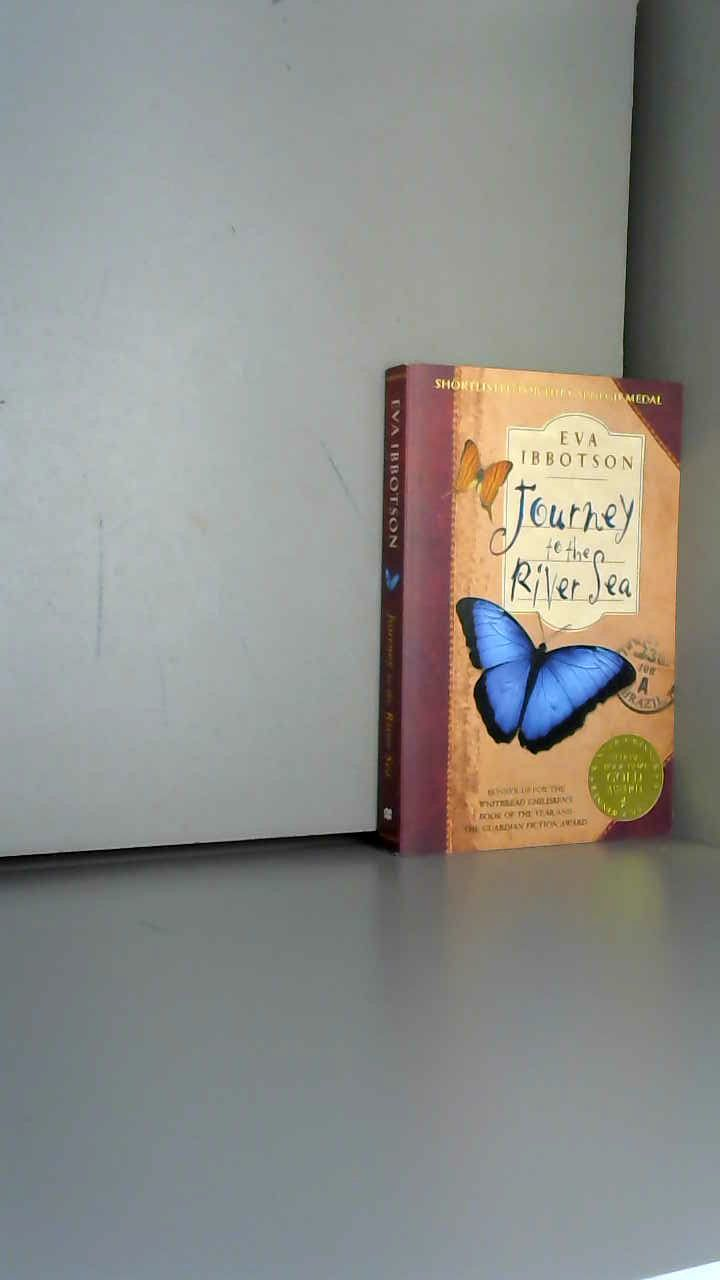book: (350, 340, 720, 903)
